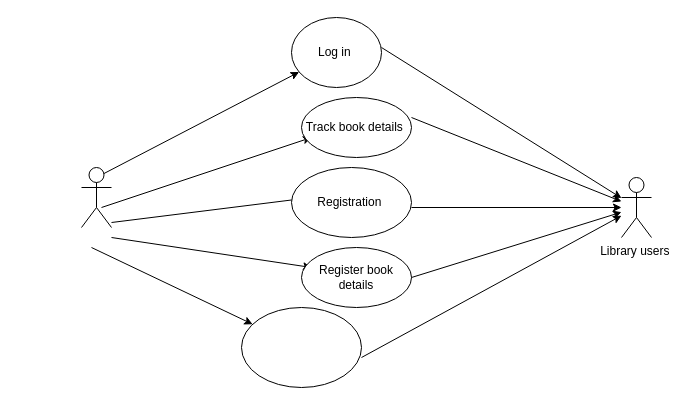
Image size: 690x405. Some labels were removed from this diagram. The centre of each missing label's shape, as x and y in pixels:
"ADMIN and Library managers" belongs at (96,197).
"View avialable book details" belongs at (301,347).
